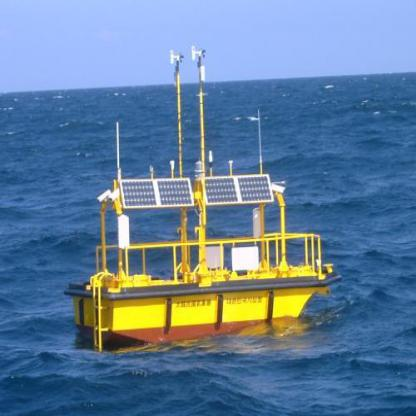buoy: (63, 35, 336, 359)
